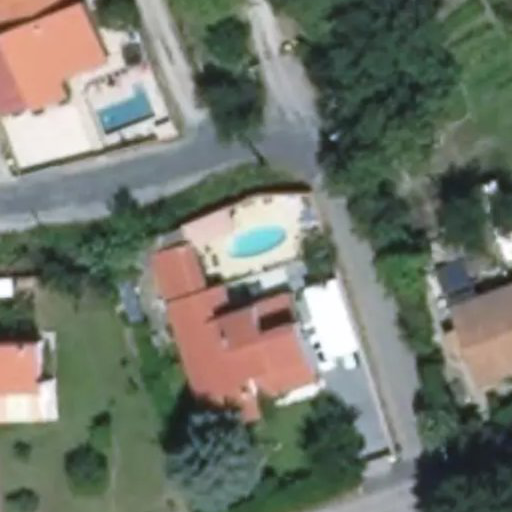pool: (221, 239, 290, 244)
